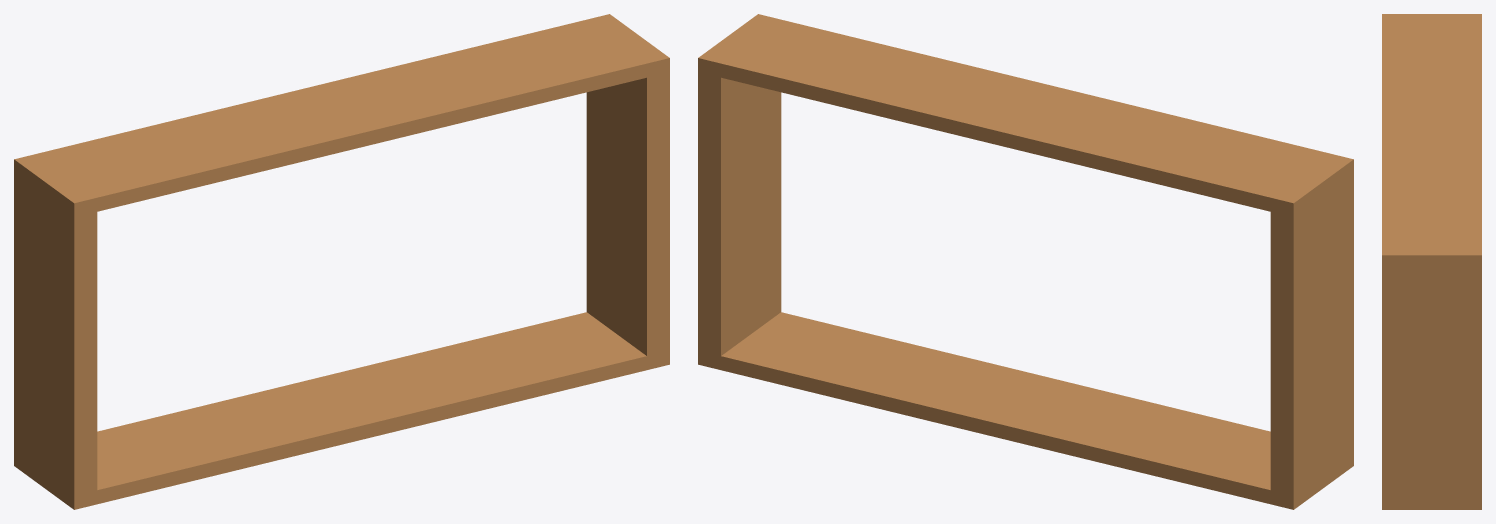
The model's file is TestTubeRack.fbx.
3 views of the same model, side by side, from view 1: azimuth 30°, elevation 25°; view 2: azimuth 150°, elevation 25°; view 3: azimuth 270°, elevation 25° (orthographic). The views are drawn at different scales.
Visible parts, largest first — view 1: pCube5; view 2: pCube5; view 3: pCube5.
Boxes of the visible parts, <box> form: pCube5: <box>14,14,669,509</box>; pCube5: <box>698,14,1353,509</box>; pCube5: <box>1382,14,1481,509</box>.
Bounding box in the file's own units: 91.52 × 45.02 × 15.99.
